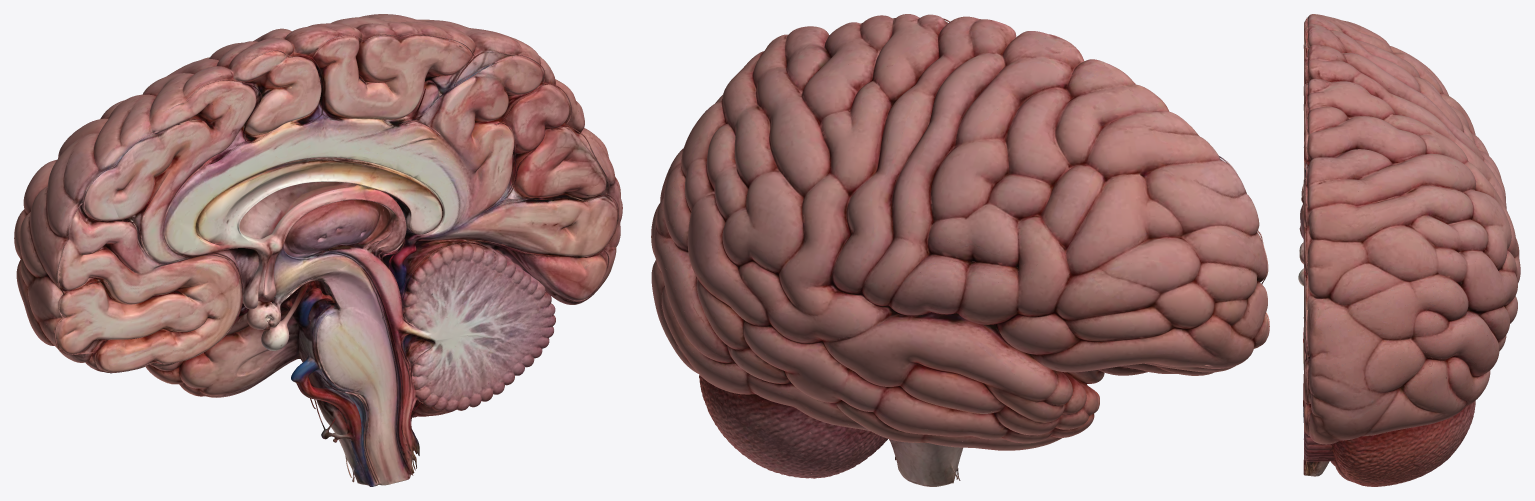
The model's file is brain_sagittal.glb.
The picture shows the model from 3 angles, left to right: view 1: azimuth 30°, elevation 25°; view 2: azimuth 150°, elevation 25°; view 3: azimuth 270°, elevation 25°; orthographic projection. The views are drawn at different scales.
Parts seen in each view (by area): view 1: brain_sagittal; view 2: brain_sagittal; view 3: brain_sagittal.
Part boxes in pixels (x1=…): brain_sagittal: x1=14, y1=14, x2=622, y2=486; brain_sagittal: x1=651, y1=14, x2=1269, y2=486; brain_sagittal: x1=1298, y1=14, x2=1520, y2=486.
Size of the model in its own units: 1.12 by 0.8621 by 0.4418.
Materials: 1 (1 with a texture image).
